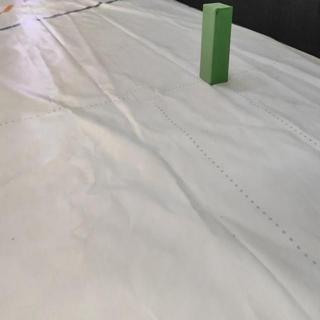greenbox: (199, 1, 232, 84)
